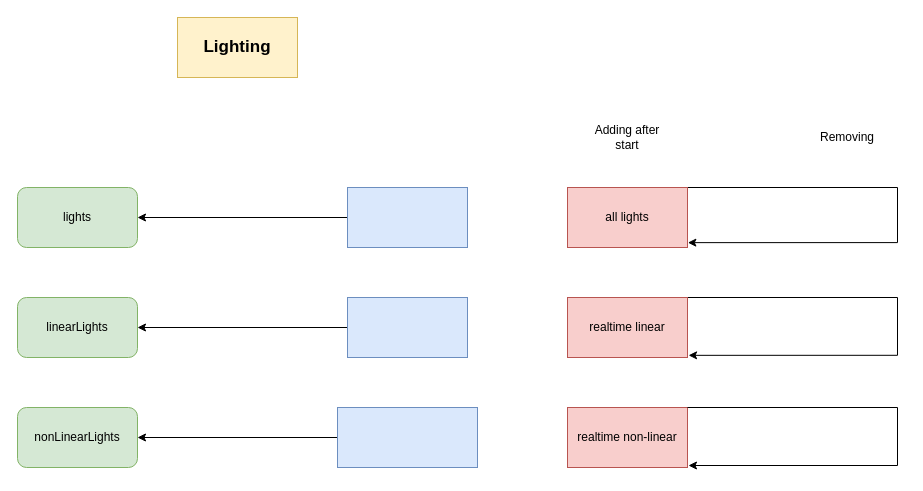
The diagram is 923 pixels wide and 491 high, and some of its shapes have lost their labels. Each missing label, with the centre of its shape:
baked + realtime: (x=407, y=217)
realtime and linear: (x=407, y=327)
realtime and non-linear: (x=407, y=437)
